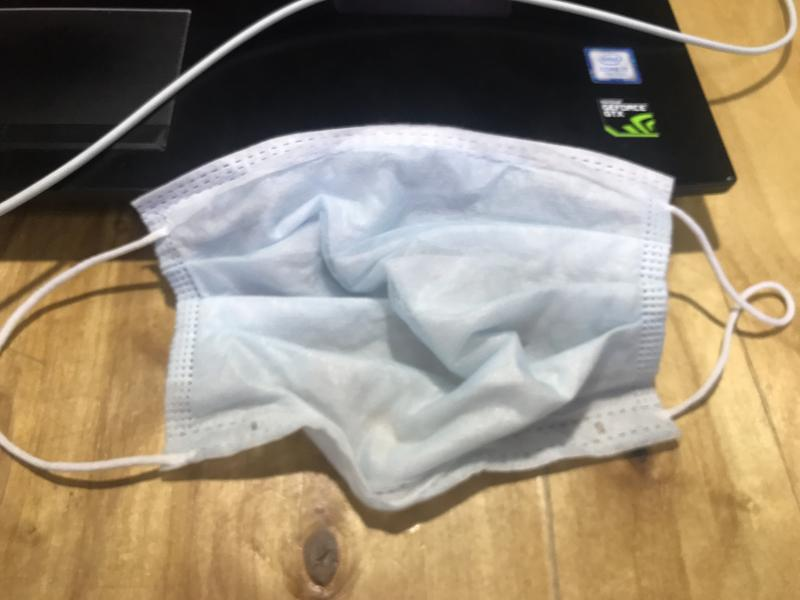medical_mask: (3, 123, 793, 508)
